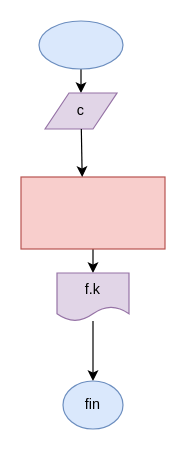
Image size: 186x450. Some labels were removed from this diagram. Each missing label, with the centre of its shape:
f = (°c*9/5) + 32 k = °c + 273.15: the point at 92,212
inicio: the point at 80,44
